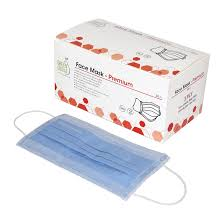flumask: (26, 114, 148, 190)
